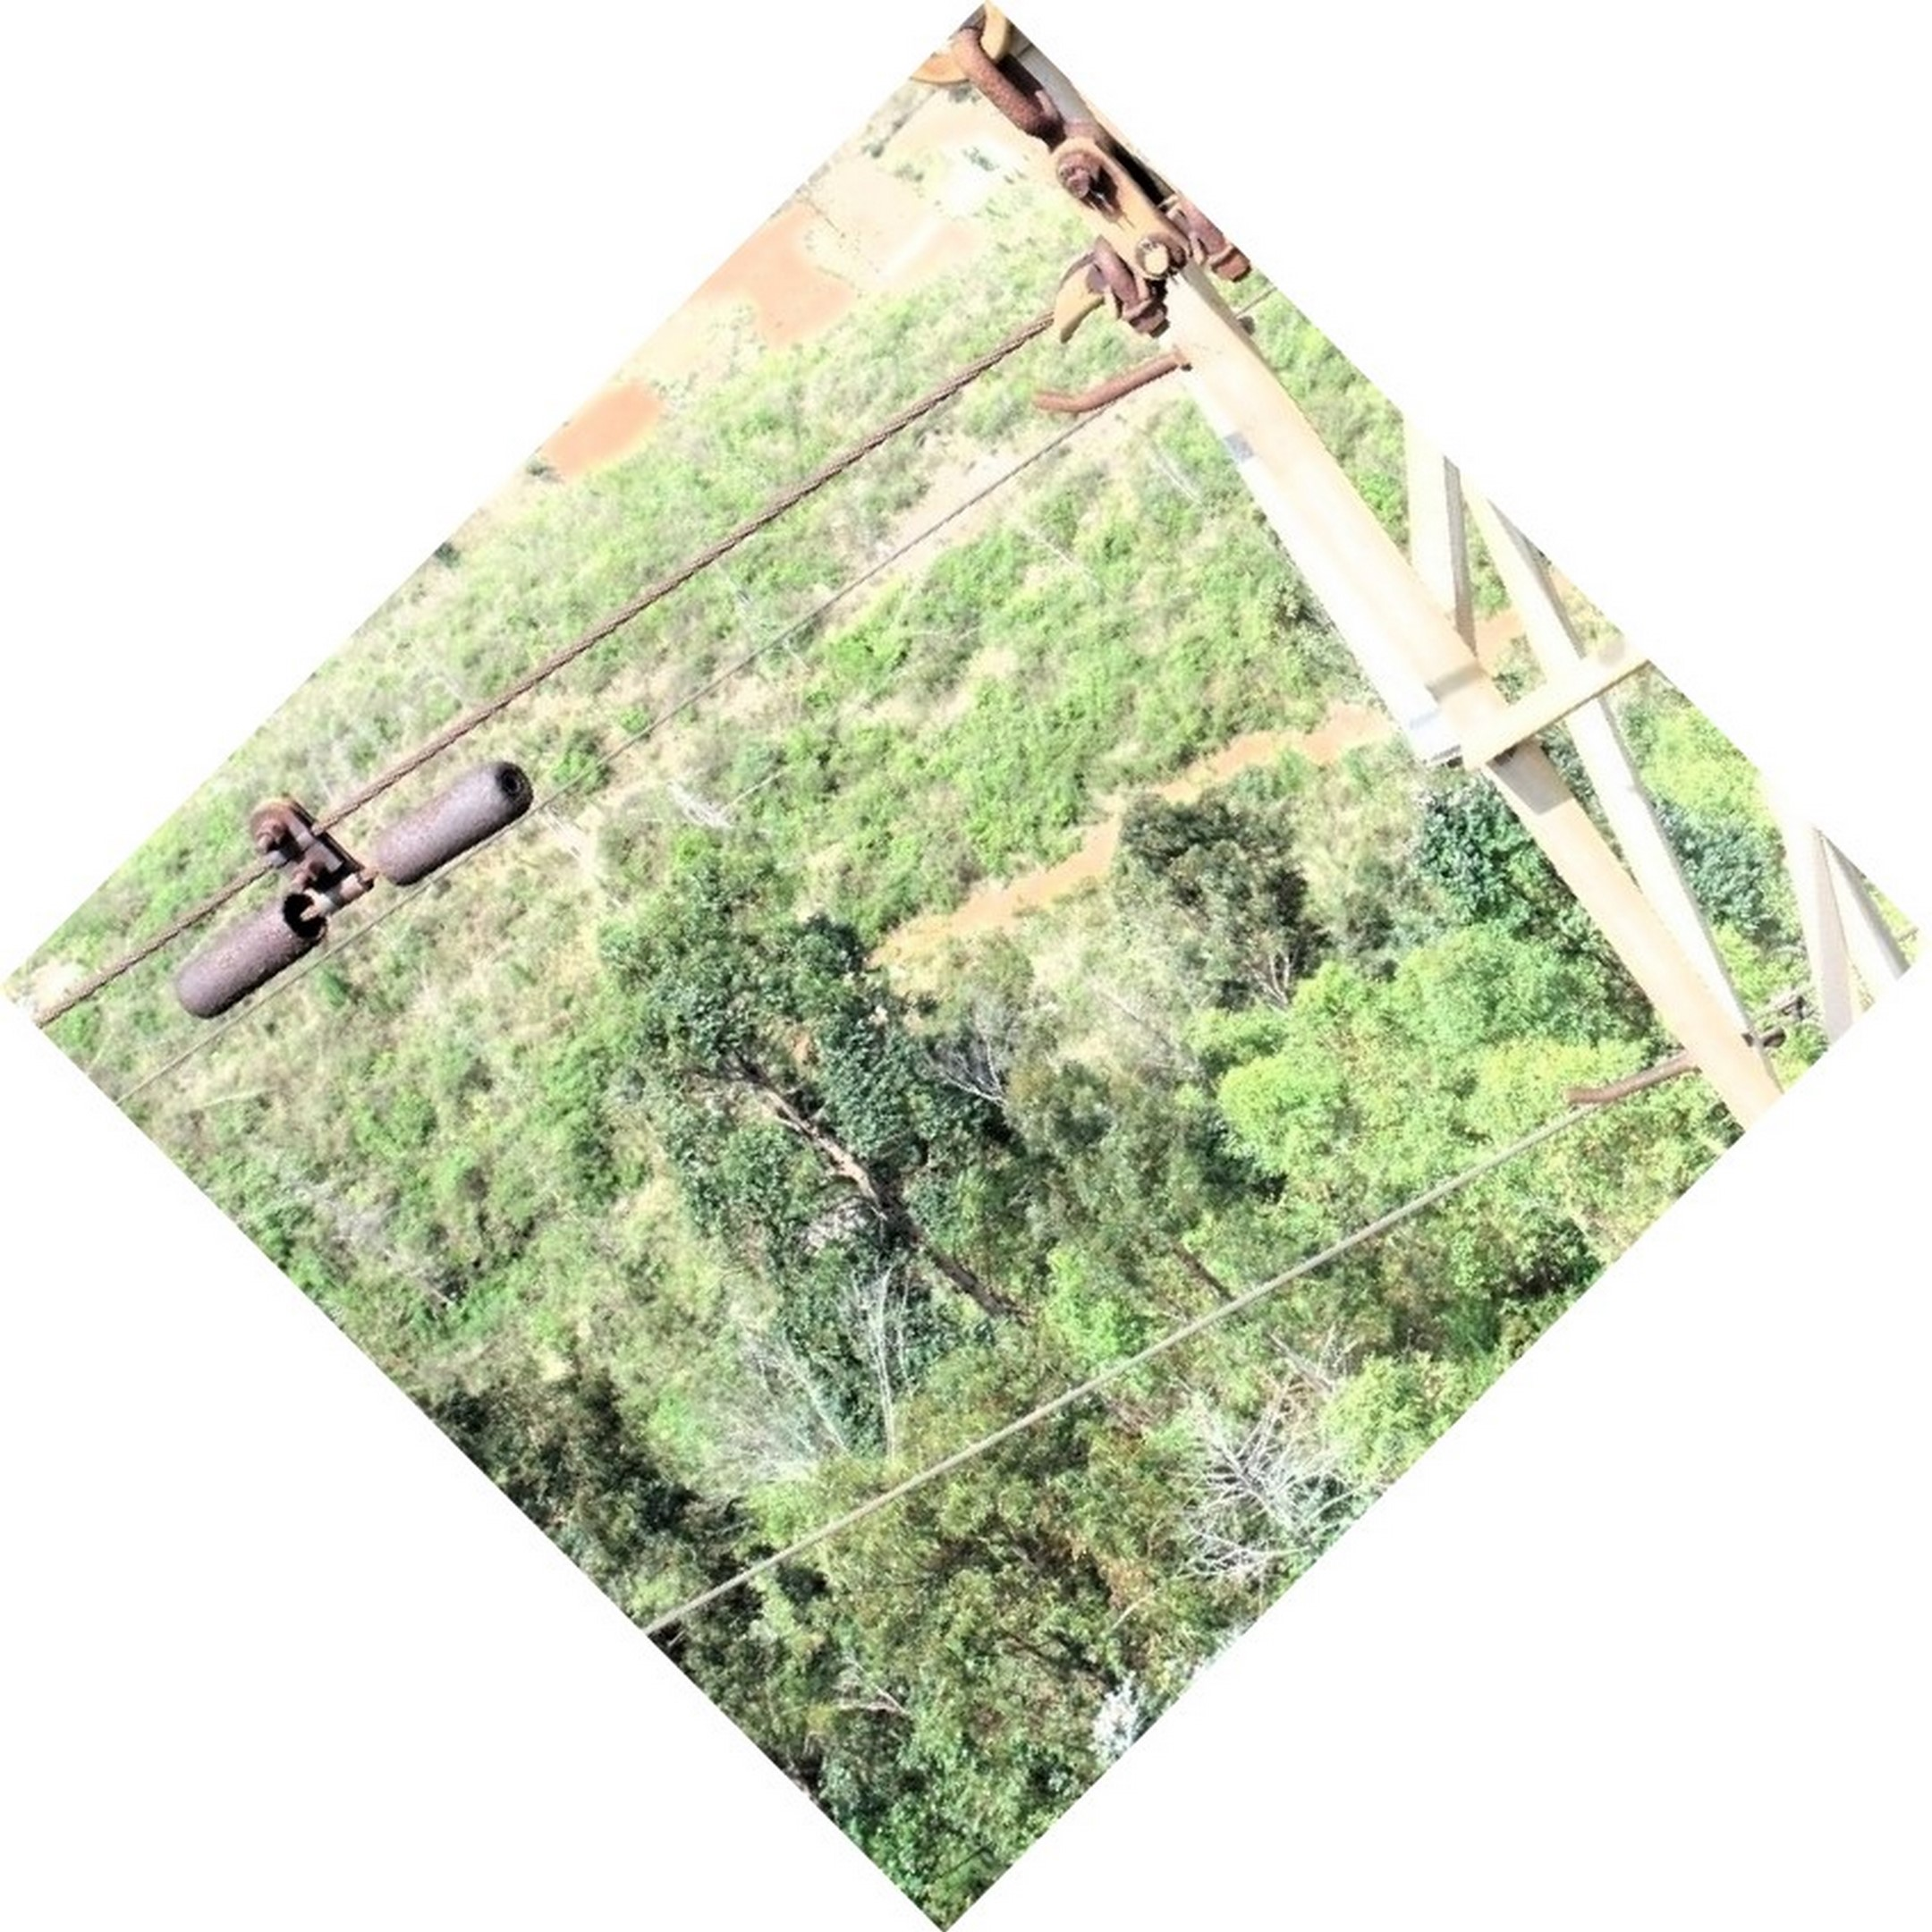Shockproof hammer: (168, 711, 552, 1033)
